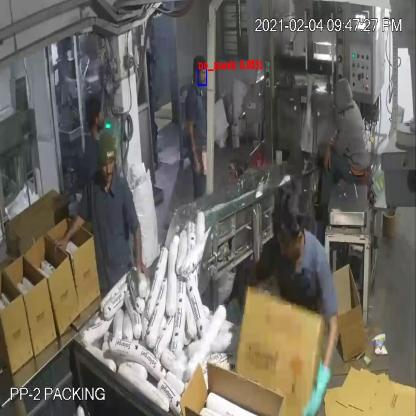glove: (300, 357, 336, 416)
no_glove: (50, 216, 85, 253), (185, 117, 204, 178), (128, 219, 146, 281), (322, 140, 334, 178)
